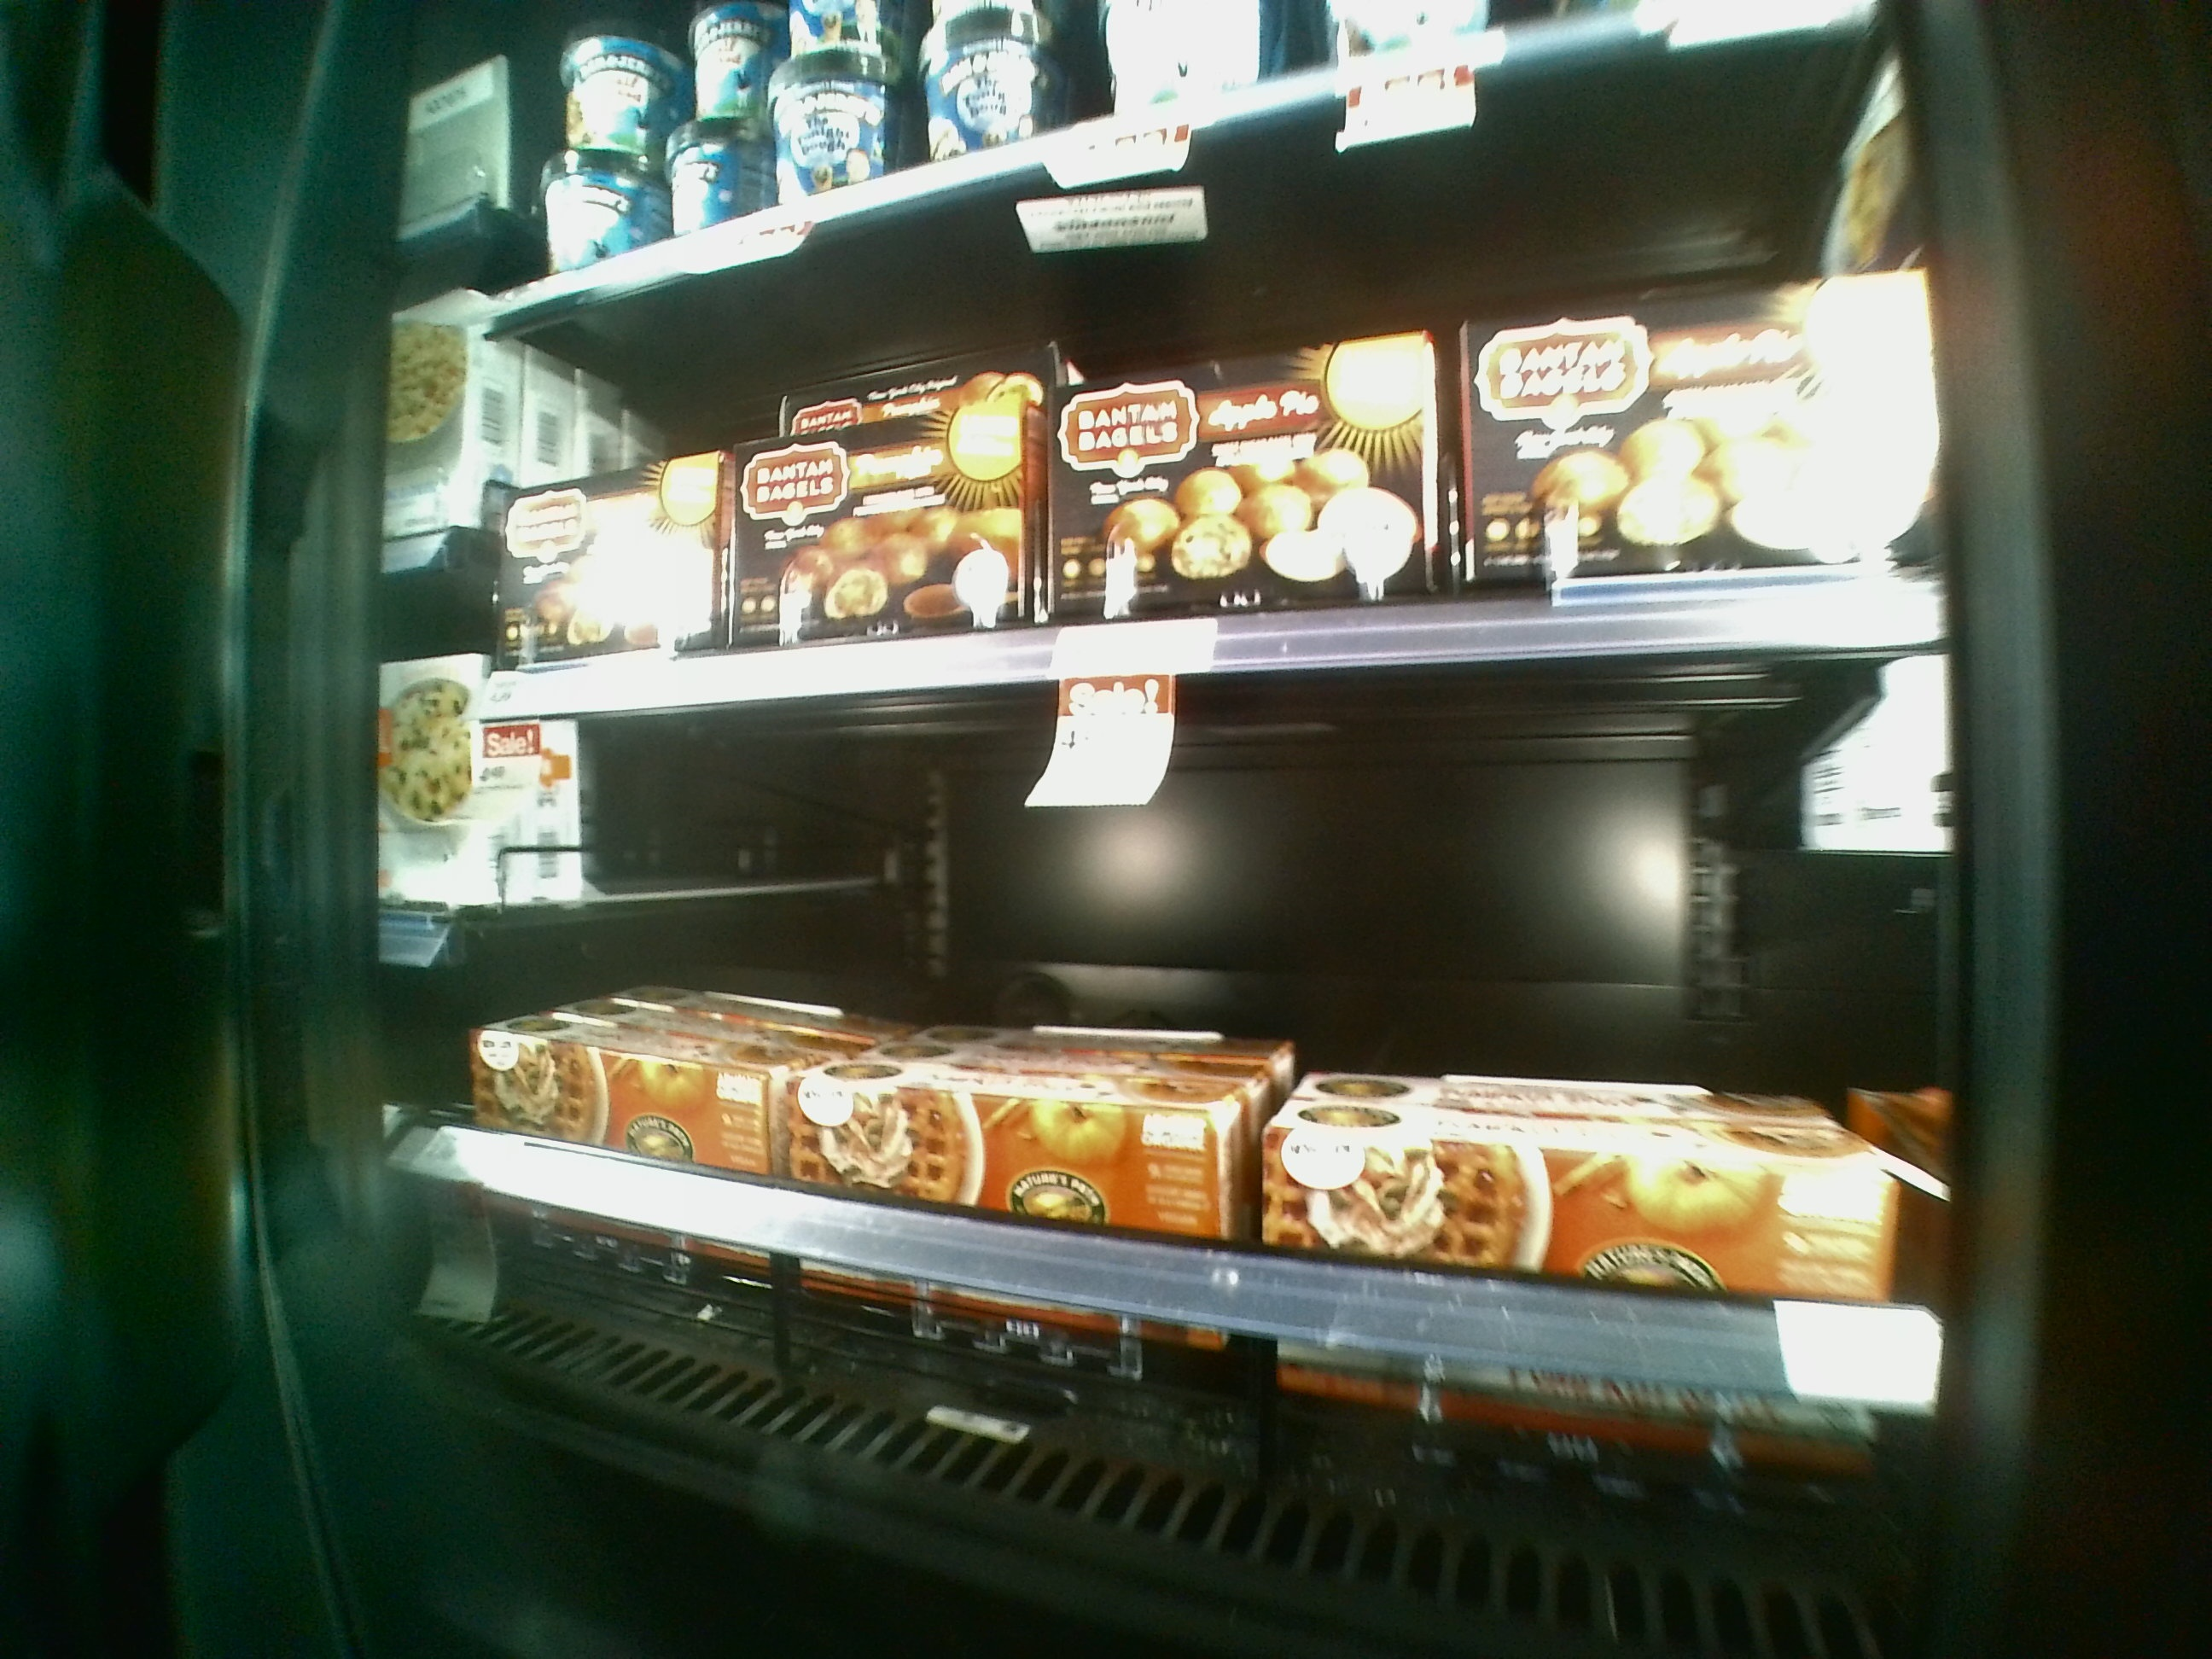shelf: (503, 667, 1912, 1567), (462, 218, 1919, 636)
